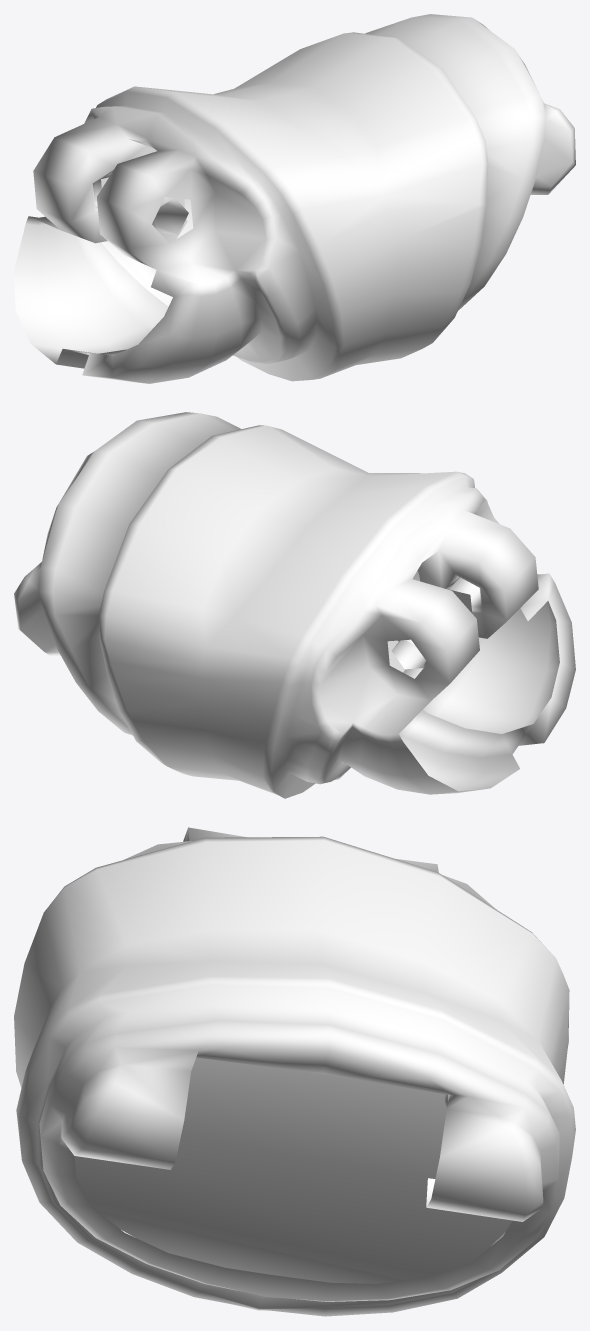
File: RFinger11.dae
3 renders of one model, top to bottom at view 1: azimuth 30°, elevation 25°; view 2: azimuth 150°, elevation 25°; view 3: azimuth 270°, elevation 25°, orthographic. The views are drawn at different scales.
Parts seen in each view (by area): view 1: RFinger11; view 2: RFinger11; view 3: RFinger11.
Part boxes in pixels (box(x1,y1,x2,y2)): RFinger11: box(14, 14, 575, 383); RFinger11: box(14, 412, 575, 798); RFinger11: box(14, 827, 575, 1316).
Size of the model in its own units: 0.1938 by 0.16 by 0.1192.
Materials: 1 (1 with a texture image).
